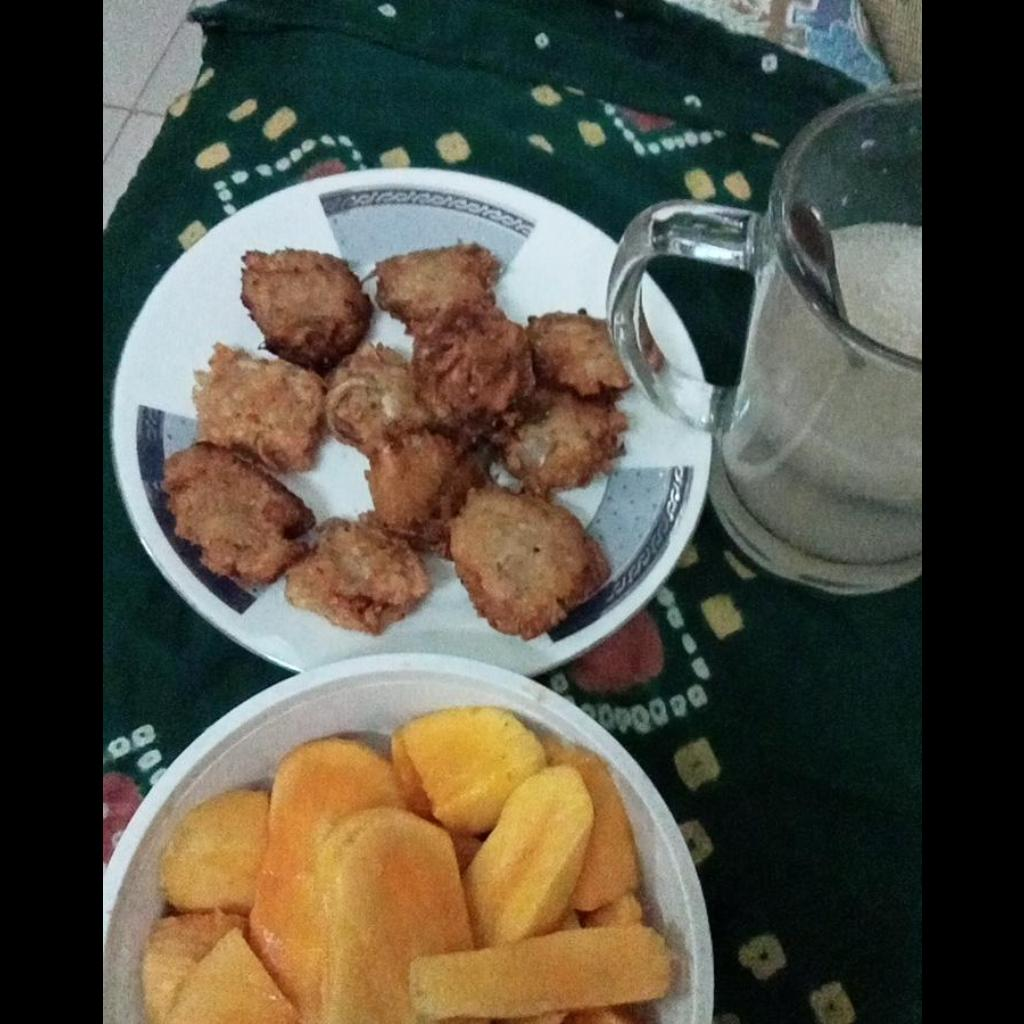juice: (831, 223, 920, 358)
mango: (138, 710, 676, 1020)
piyaju: (158, 243, 634, 636)
